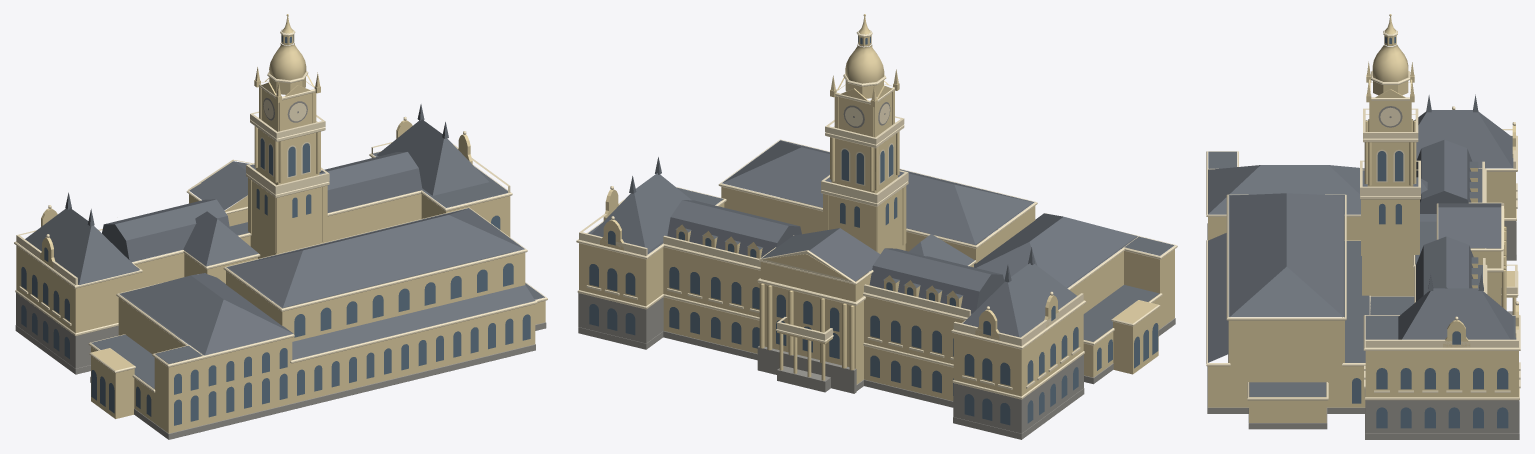
File: cpt-city-hall.glb
3 renders of one model, left to right at view 1: azimuth 30°, elevation 25°; view 2: azimuth 150°, elevation 25°; view 3: azimuth 270°, elevation 25°, orthographic. The views are drawn at different scales.
Visible parts, largest first — view 1: Cape Town City Hall; view 2: Cape Town City Hall; view 3: Cape Town City Hall.
Part boxes in pixels (x1,y1,x2,y2): Cape Town City Hall: (14,14,547,439); Cape Town City Hall: (576,14,1177,439); Cape Town City Hall: (1206,14,1520,439).
Size of the model in its own units: 88.9 by 60.02 by 53.5.
